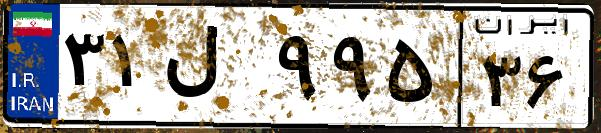1: (110, 28, 158, 98)
3: (57, 26, 110, 100), (475, 38, 525, 113)
5: (385, 28, 445, 110)
6: (525, 38, 570, 115)
9: (270, 28, 330, 110), (330, 28, 385, 110)
ل: (158, 20, 270, 120)
